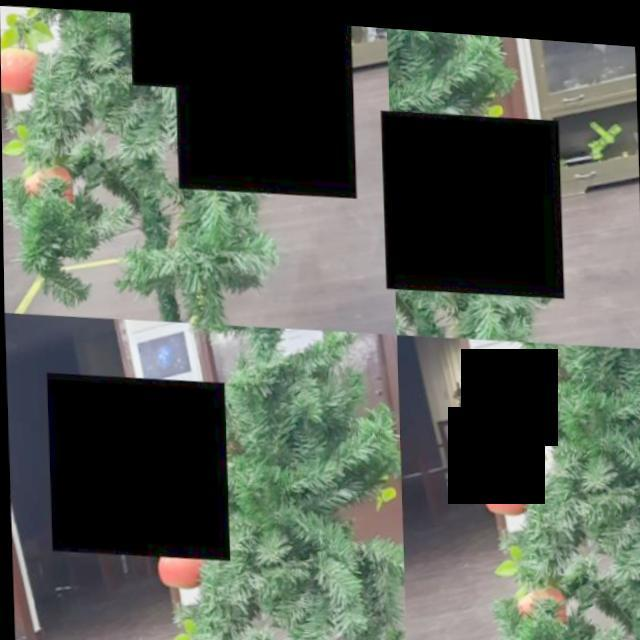Tree: (36, 3, 333, 285), (397, 324, 640, 640), (354, 22, 588, 340), (189, 316, 406, 640)
